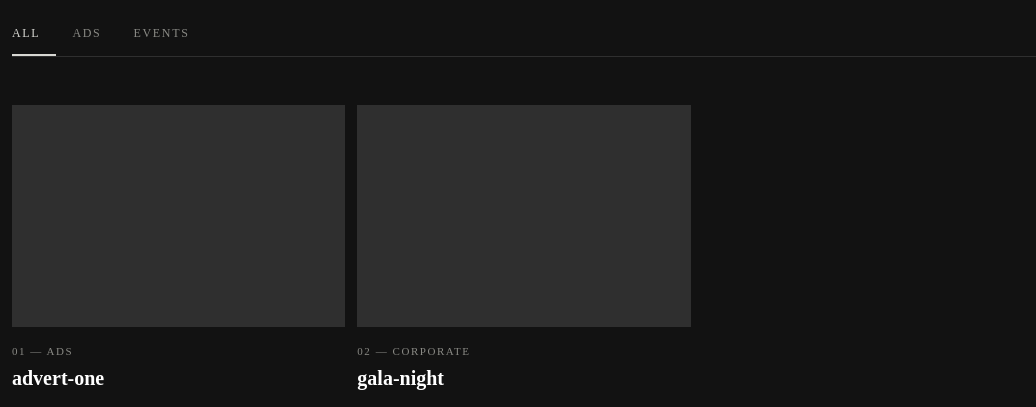
WorkBrowser › filters instantly when a category is chosen
Click the button "Ads" at (87, 34), box [56,12,117,56]
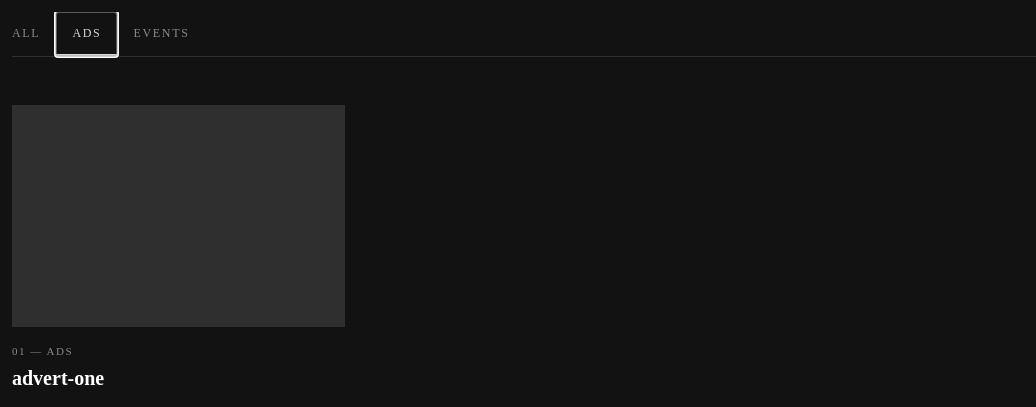
Check: the heading "advert-one" is shown, box [12,367,104,389]
Check: the link "gala-night" is gone
